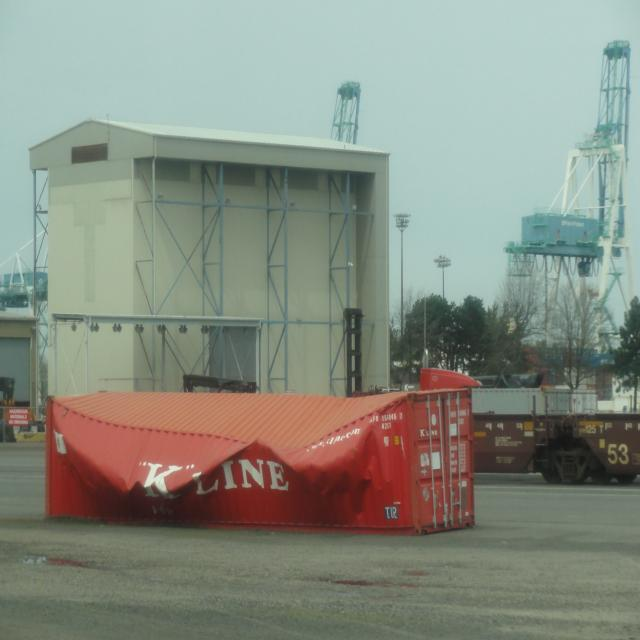dent: (50, 398, 407, 529), (53, 393, 404, 451)
